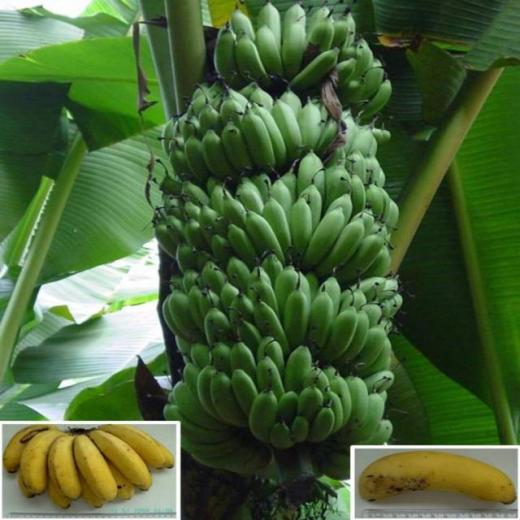Banana: (153, 4, 404, 484), (0, 425, 172, 511), (356, 449, 519, 506)
